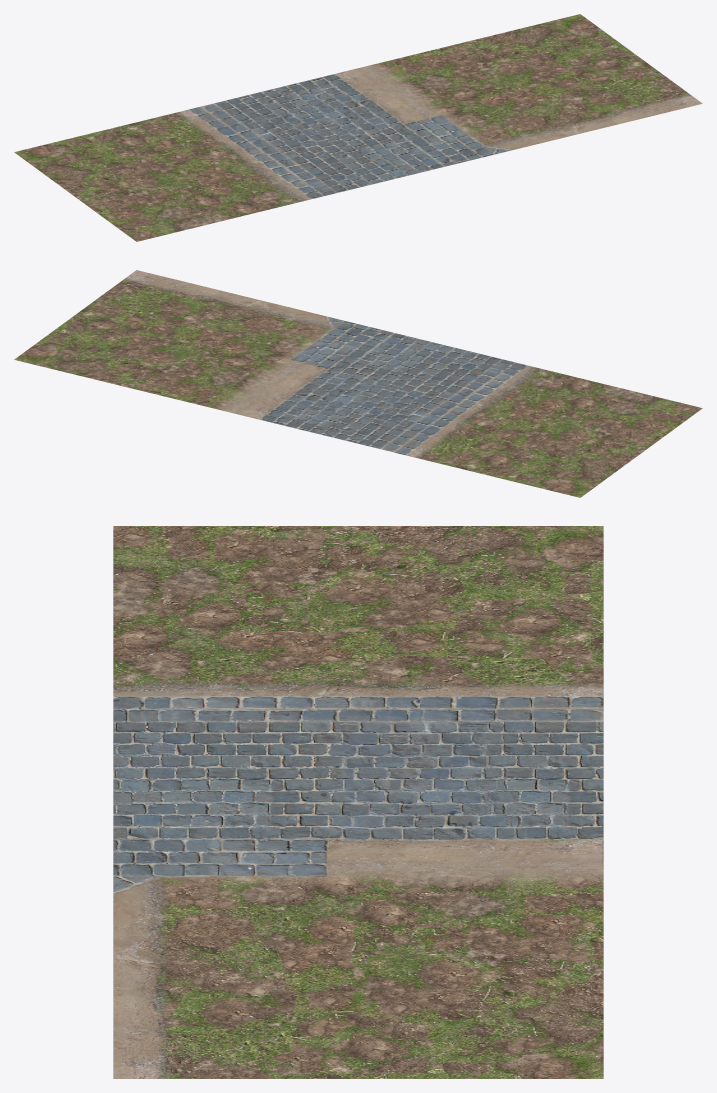
The model's file is GroundVillageNorth.fbx.
The picture shows the model from 3 angles, top to bottom: view 1: azimuth 30°, elevation 25°; view 2: azimuth 150°, elevation 25°; view 3: azimuth 270°, elevation 25°; orthographic projection. The views are drawn at different scales.
Parts seen in each view (by area): view 1: GroundVillage.001; view 2: GroundVillage.001; view 3: GroundVillage.001.
Boxes of the visible parts, bbox=[...] form: GroundVillage.001: bbox=[14, 14, 702, 241]; GroundVillage.001: bbox=[14, 270, 702, 497]; GroundVillage.001: bbox=[113, 526, 603, 1078].
Bounding box in the file's own units: 6000 × 0.000367 × 2250.
